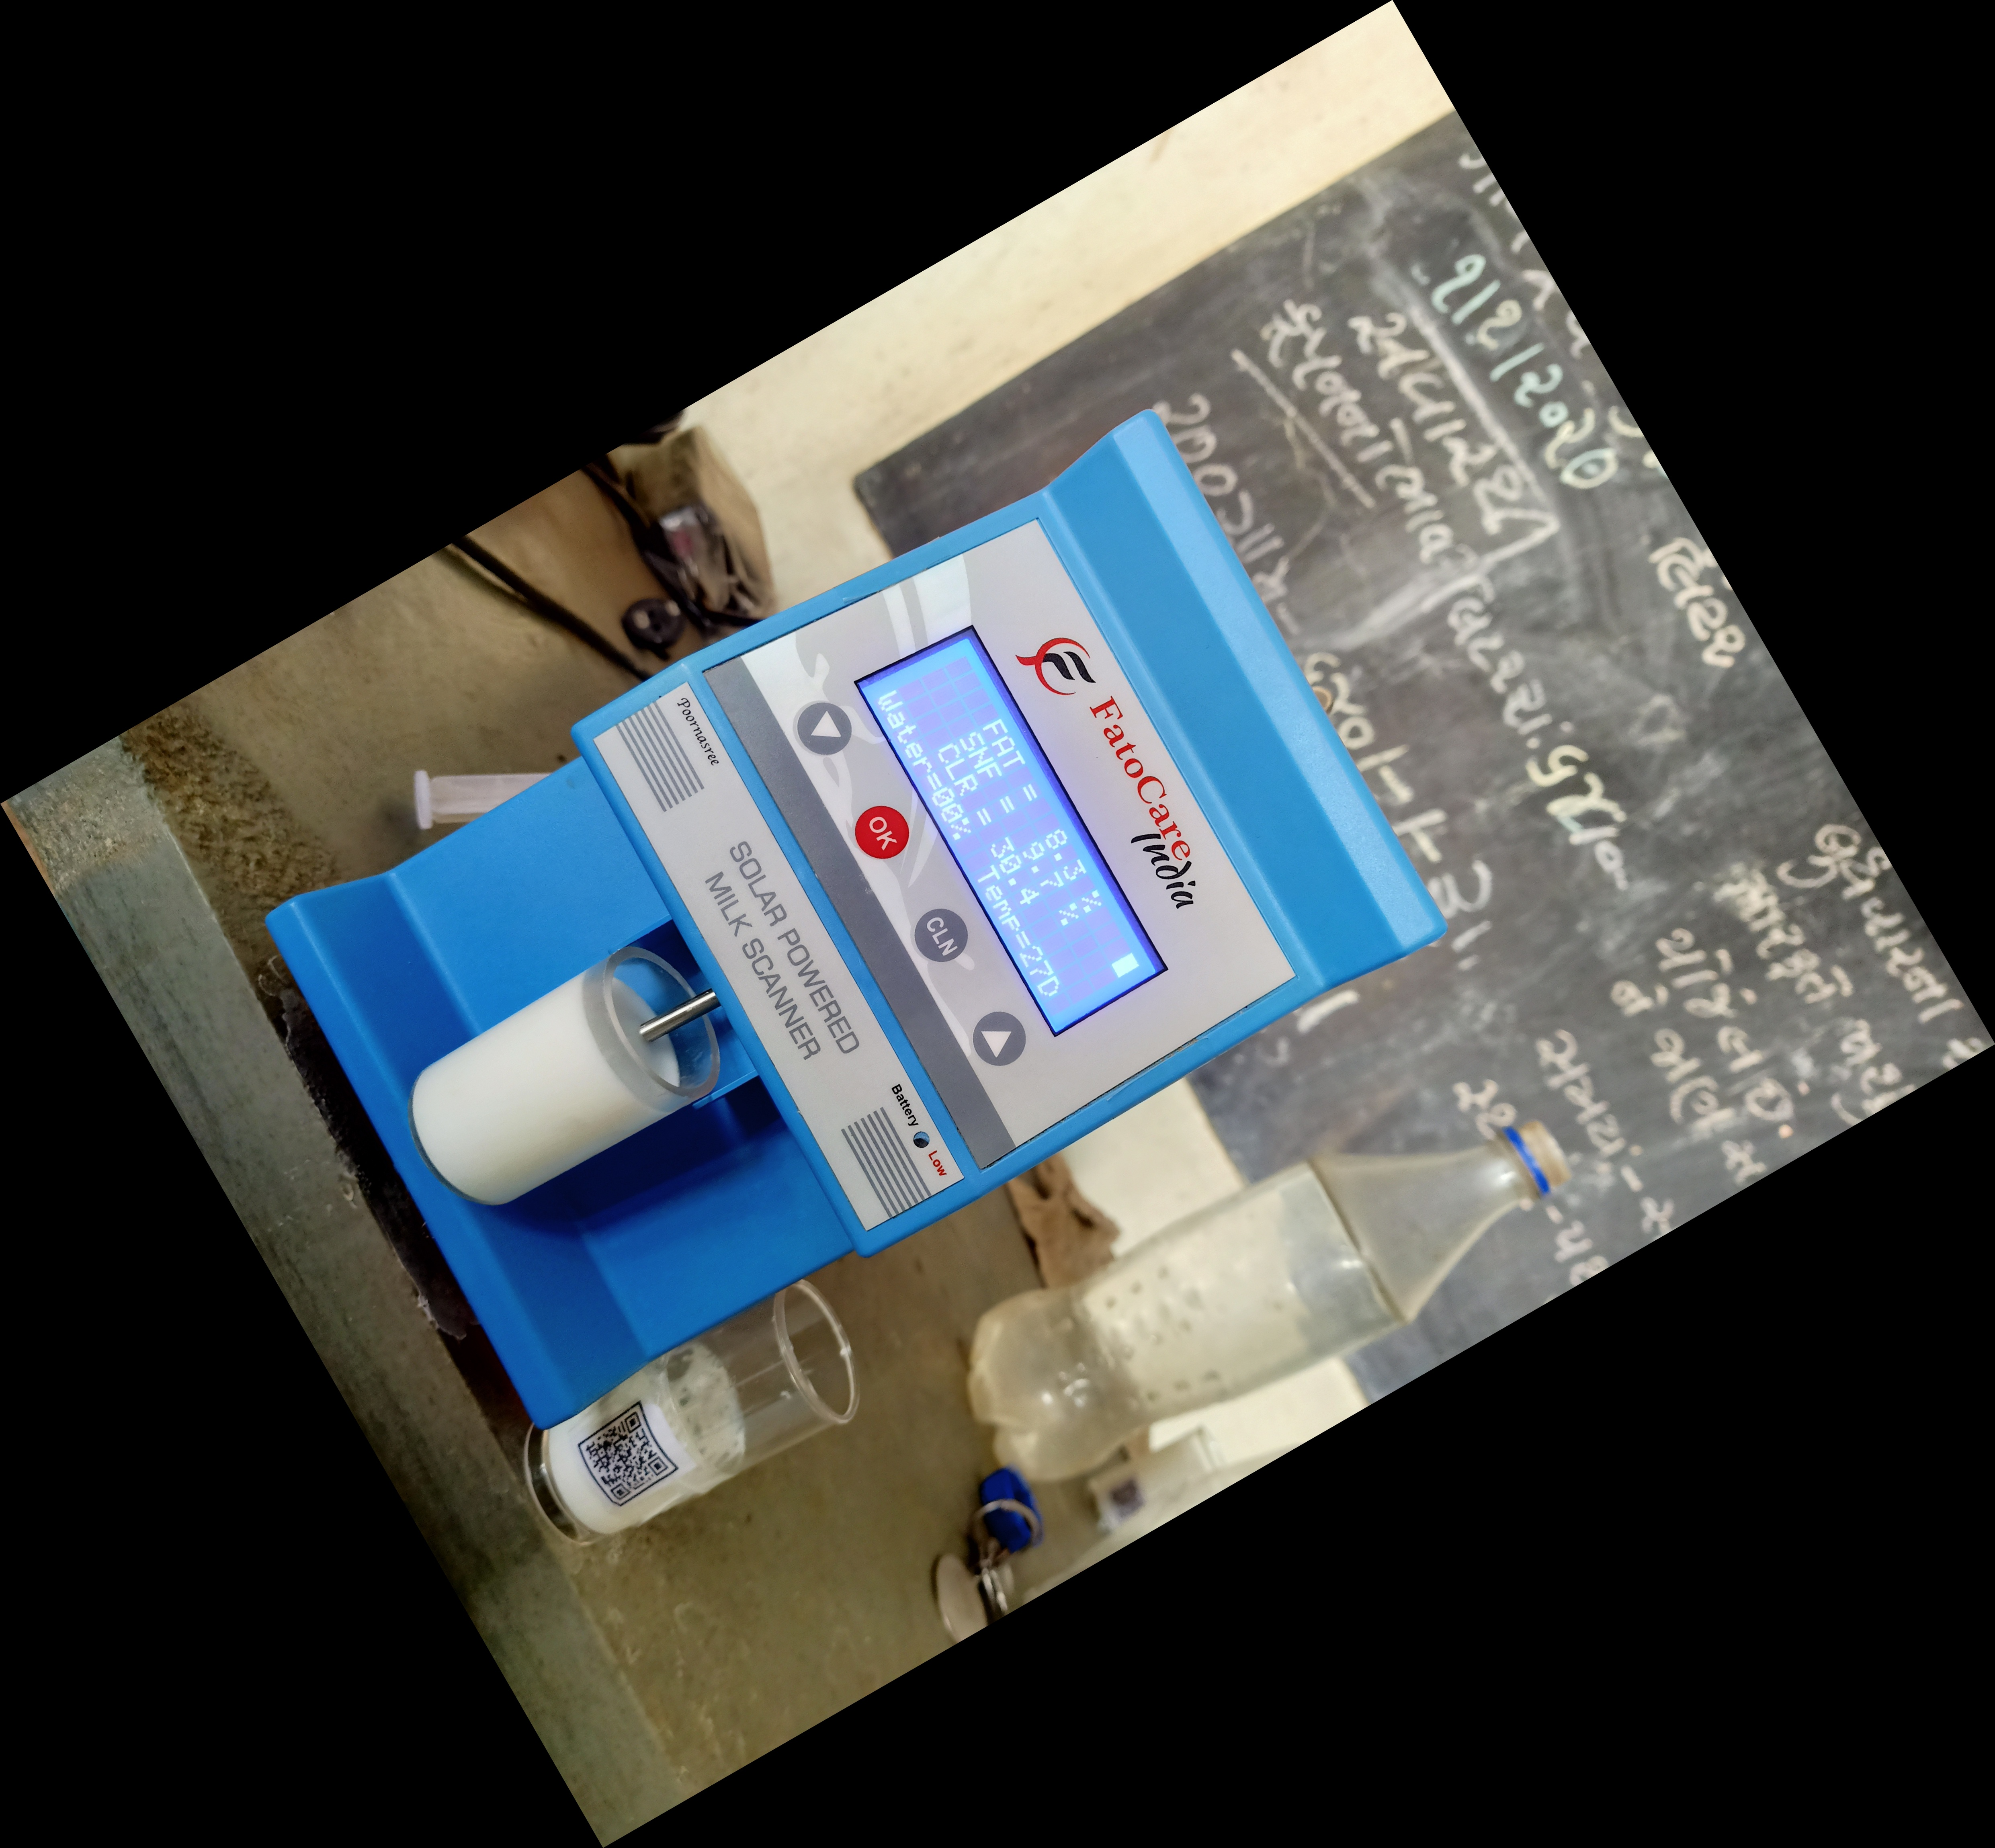lcd: (853, 610, 1185, 1038)
qr: (572, 1393, 683, 1512)
